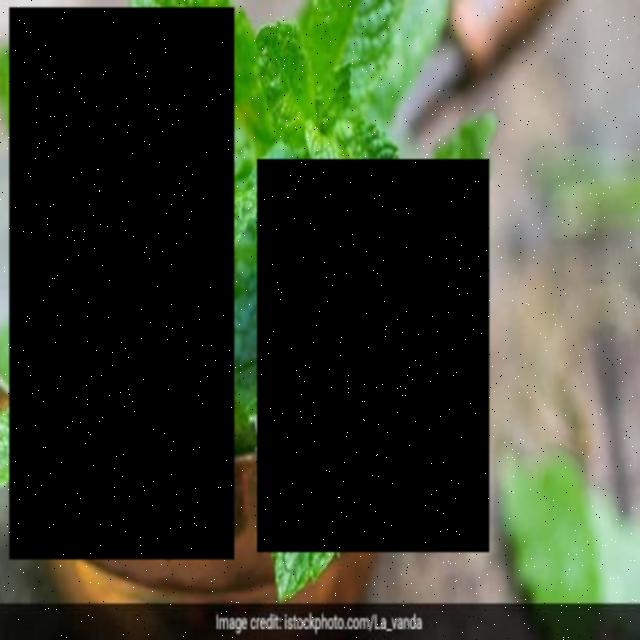Green_Mint: (10, 8, 235, 559), (257, 161, 489, 554)
